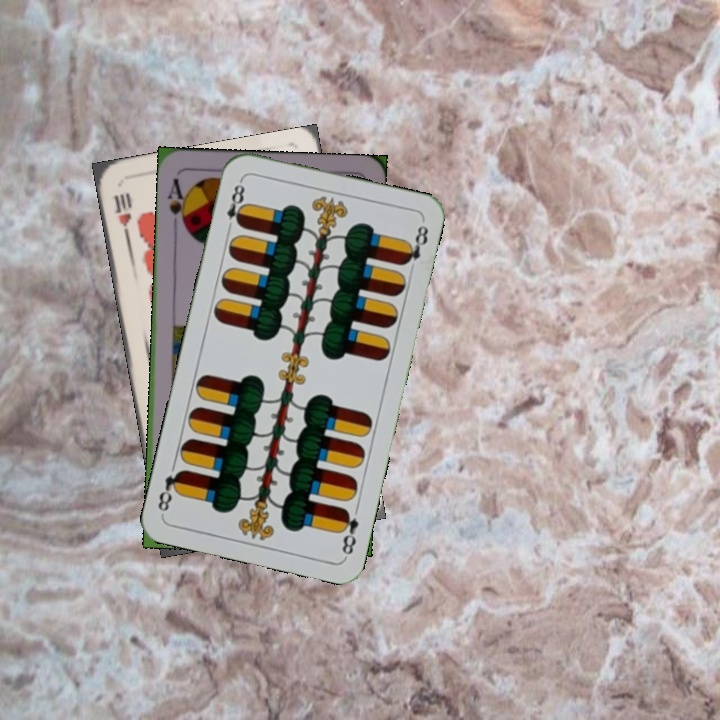E8: (222, 176, 249, 234), (335, 504, 361, 559)
H10: (109, 188, 134, 243)
SA: (163, 174, 191, 232)
